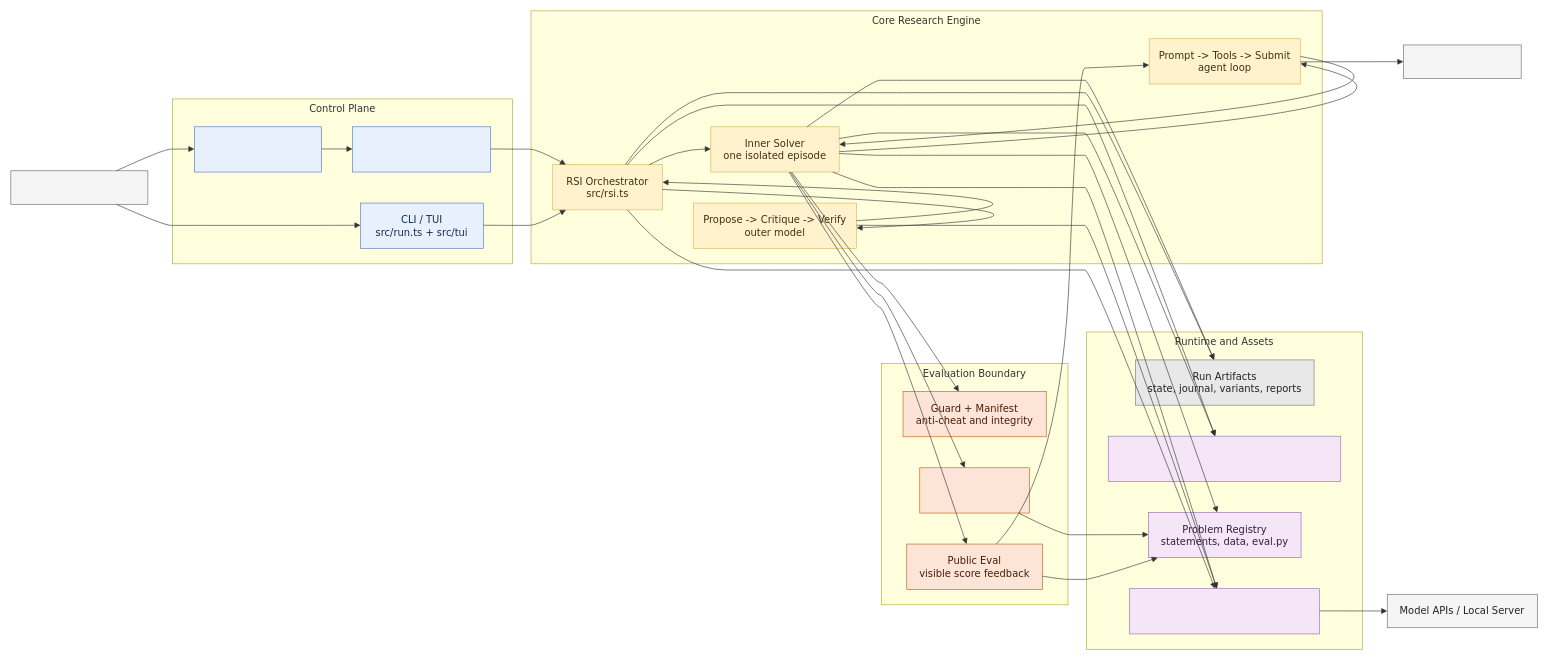
The diagram is 1548 pixels wide and 660 high, and some of its shapes have lost their labels. The centre of each missing label's shape, as x and y in pixels:
"Learning Assets scaffold, knowledge, memory, optional RAG" belongs at point 1224,458.
"Operator / Researcher" belongs at point 79,187.
"Pause / Resume / Stop RunController" belongs at point 421,149.
"Pi Extension extensions/georsi.ts" belongs at point 257,149.
"Private Eval selection fitness" belongs at point 974,490.
"Provider + Pi Harness routing, profiles, timeouts, tokens" belongs at point 1224,611.
"Python / GIS Tools" belongs at point 1462,61.
